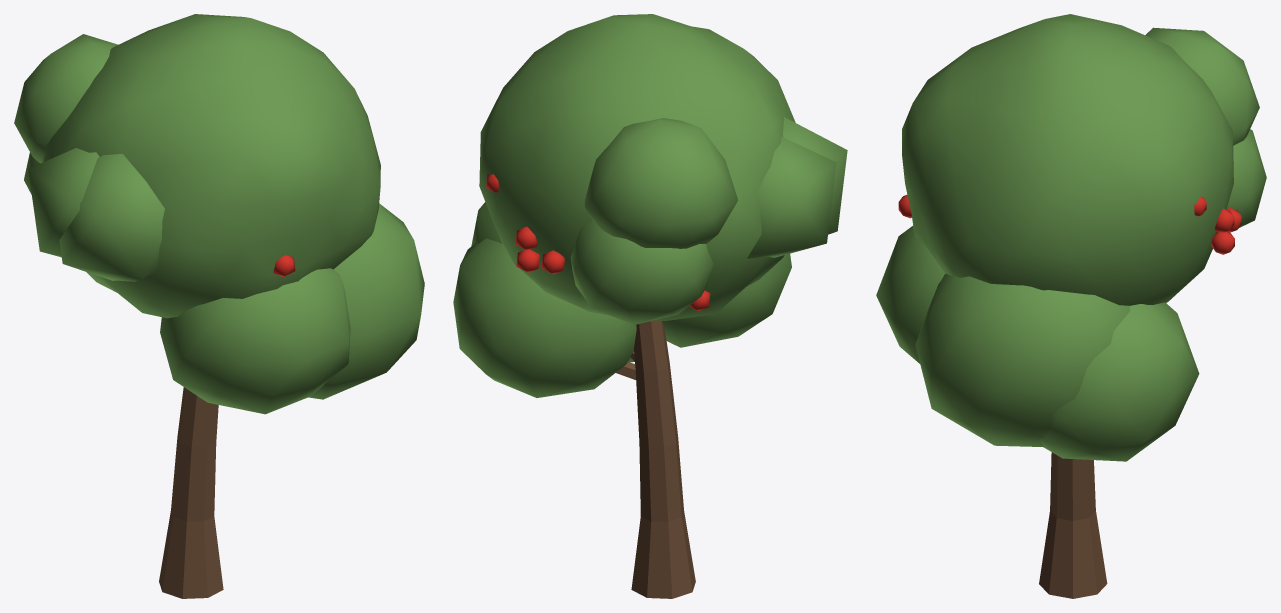
The model's file is tree_apple_1.glb.
The picture shows the model from 3 angles, left to right: view 1: azimuth 30°, elevation 25°; view 2: azimuth 150°, elevation 25°; view 3: azimuth 270°, elevation 25°; orthographic projection. The views are drawn at different scales.
Parts seen in each view (by area): view 1: tree_apple_1; view 2: tree_apple_1; view 3: tree_apple_1.
Part boxes in pixels (x1,y1,x2,y2): tree_apple_1: [14, 14, 424, 598]; tree_apple_1: [453, 14, 847, 598]; tree_apple_1: [876, 14, 1266, 598].
Size of the model in its own units: 3.96 by 5.96 by 3.7.
